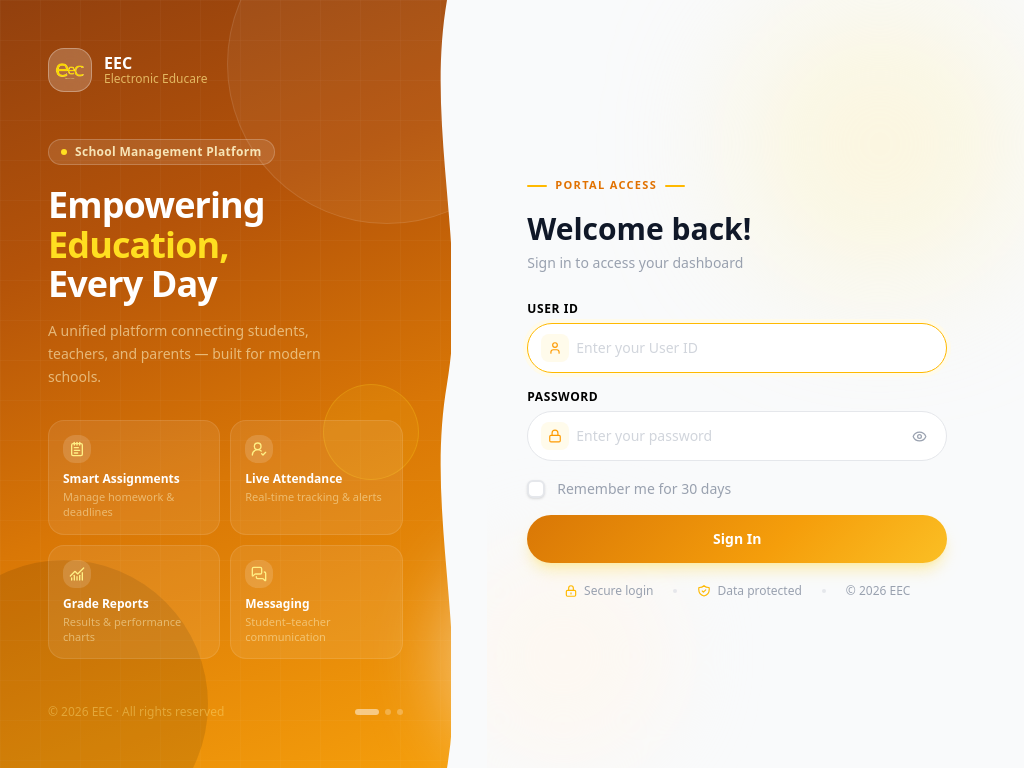
it: LoginForm Component › Login API Integration › shows loading state during login
Type "testuser" into the field with placeholder "Enter your User ID".
click(737, 348); type("testuser")  # box [527, 323, 947, 373]
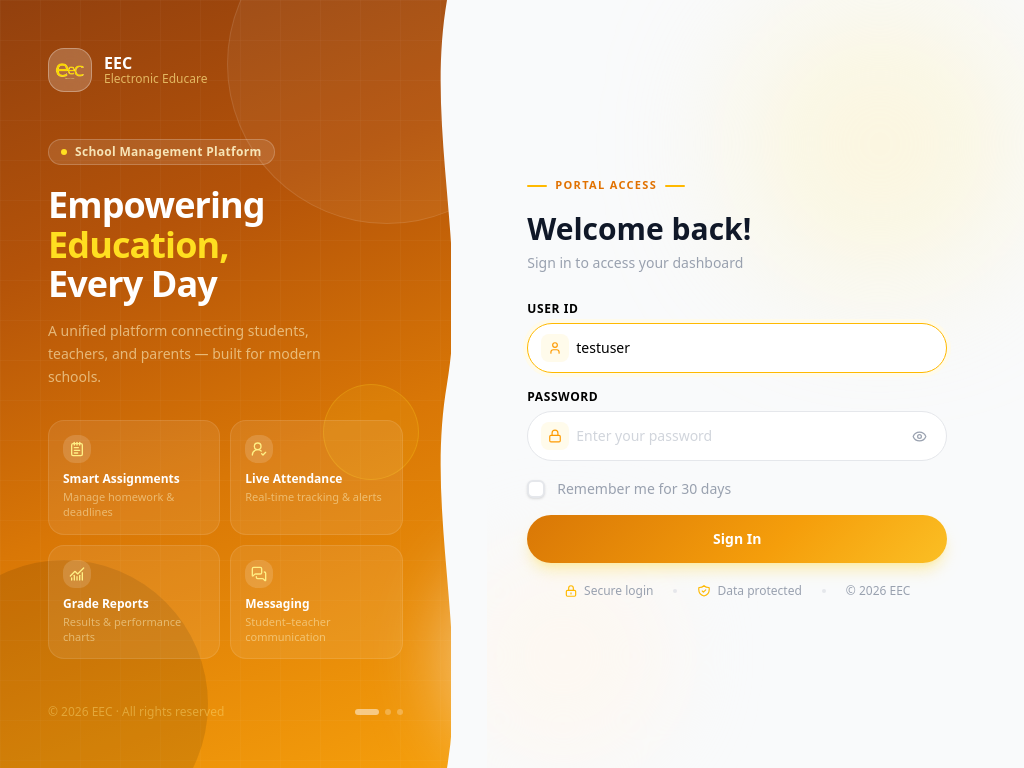
Type "password123" into the password field with placeholder "Enter your password".
click(737, 436); type("password123")  # box [527, 411, 947, 461]
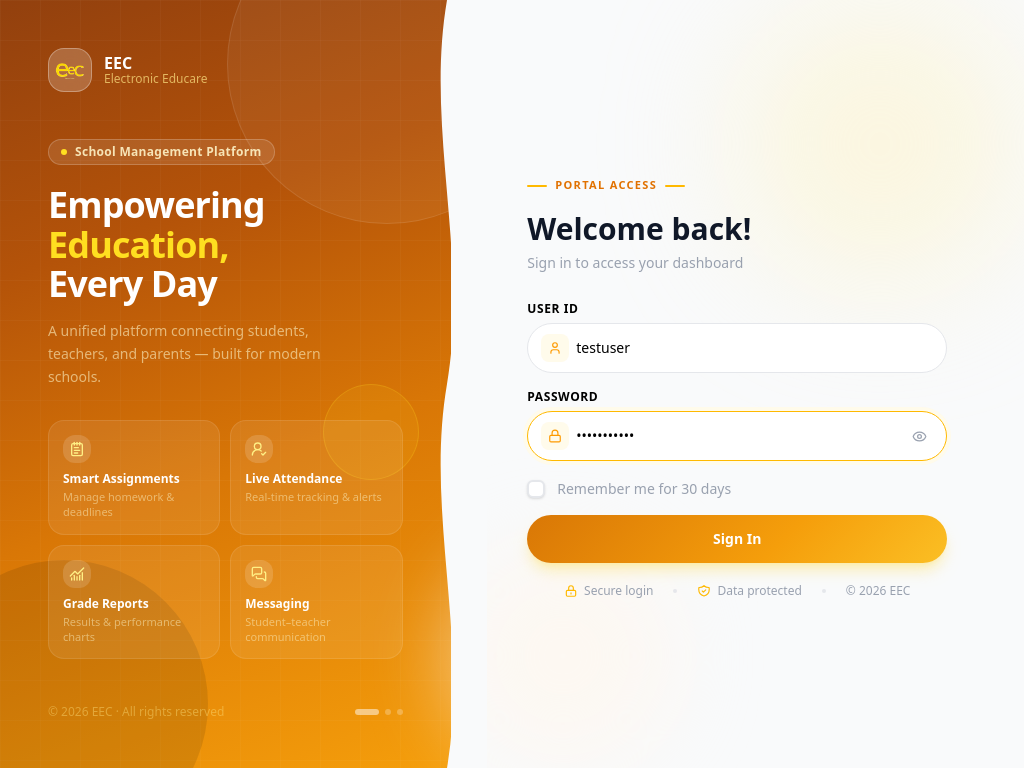
Click the button "Sign In".
click(737, 539)  # box [527, 515, 947, 563]
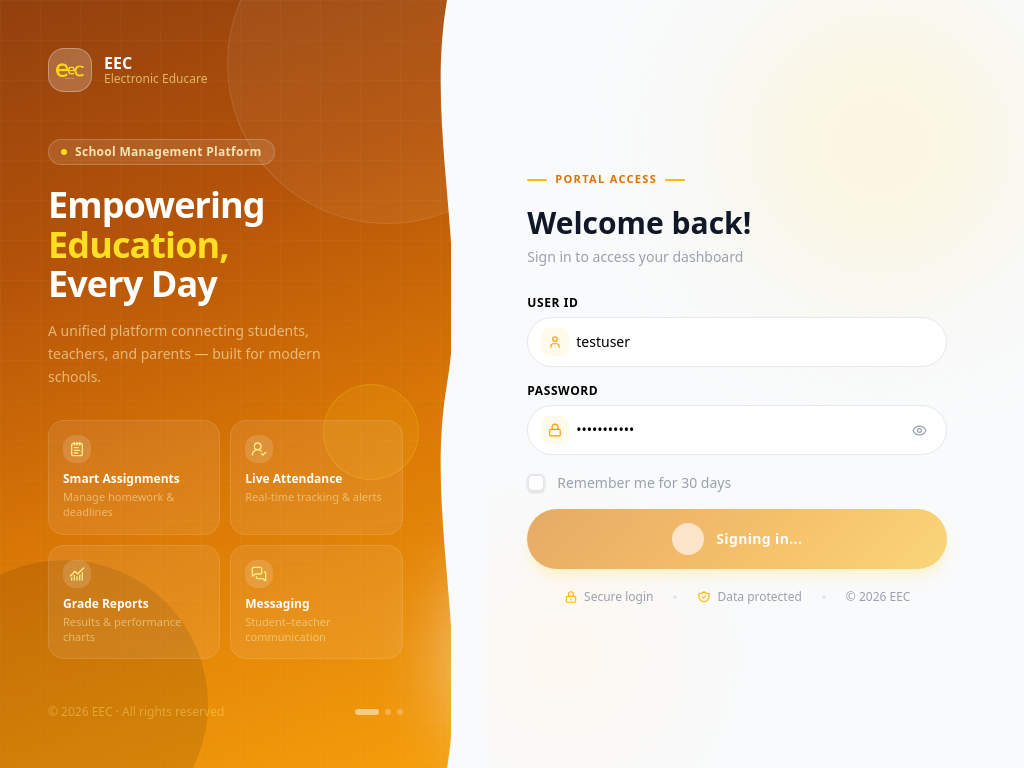
expect the text "Signing in..." is shown: met, box [716, 529, 802, 549]
expect the button named "Sign In" is disabled: met, box [527, 509, 947, 569]
